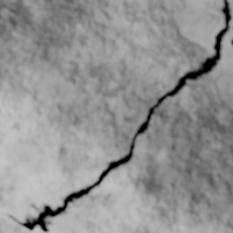broken_brick: (0, 0, 222, 220), (48, 0, 232, 232), (0, 215, 40, 232)
crack: (0, 0, 231, 232), (229, 37, 232, 47)
